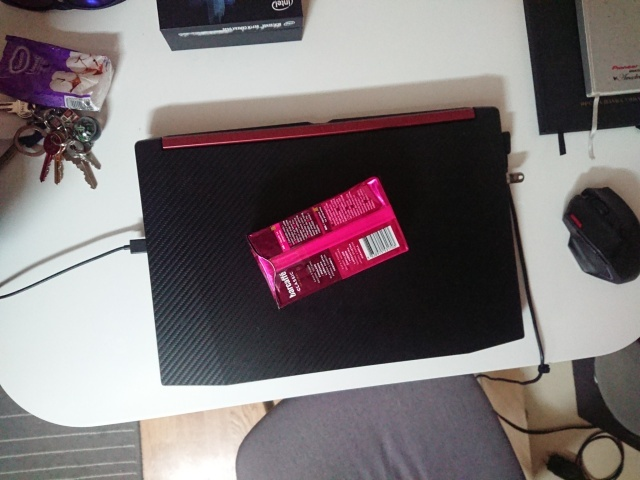Barcaffe Classic Original 225g: (243, 173, 413, 313)
